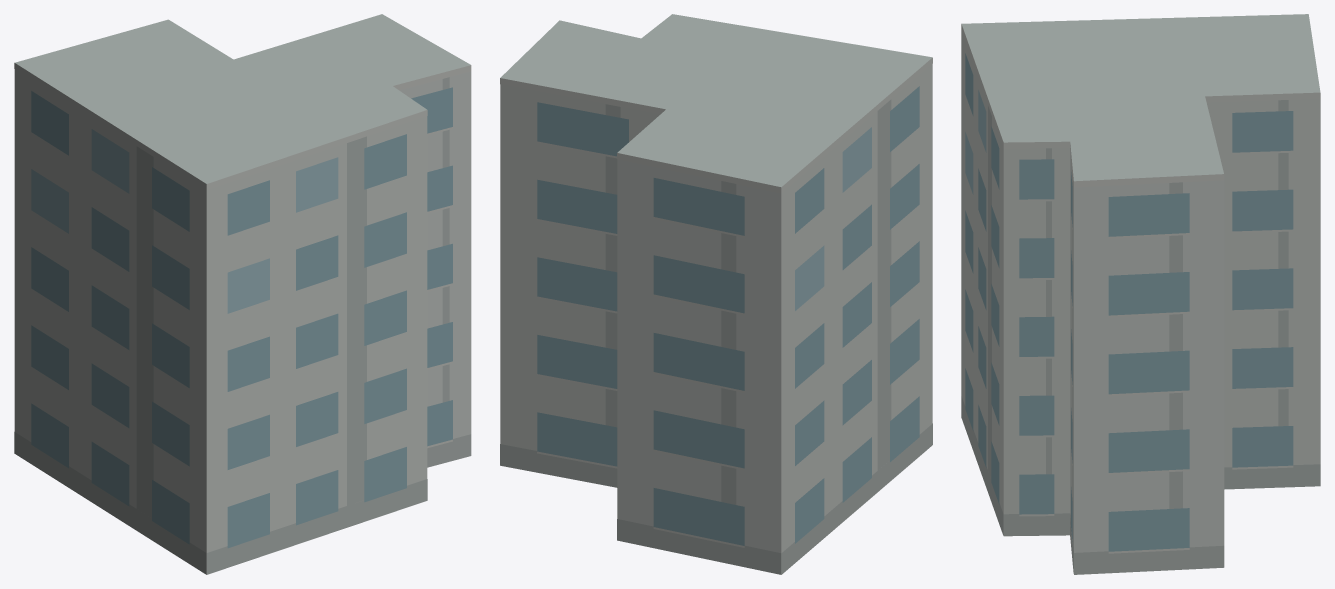
Rendered from survey-upis-32637433.glb.
The picture shows the model from 3 angles, left to right: view 1: azimuth 30°, elevation 25°; view 2: azimuth 150°, elevation 25°; view 3: azimuth 270°, elevation 25°; orthographic projection.
Visible parts, largest first — view 1: survey-upis-32637433.tmp; view 2: survey-upis-32637433.tmp; view 3: survey-upis-32637433.tmp.
Part boxes in pixels (box(x1,y1,x2,y2)): survey-upis-32637433.tmp: box(14, 14, 471, 574); survey-upis-32637433.tmp: box(500, 14, 932, 574); survey-upis-32637433.tmp: box(961, 14, 1320, 574).
Bounding box in the file's own units: 13.9 × 15.25 × 12.62.
